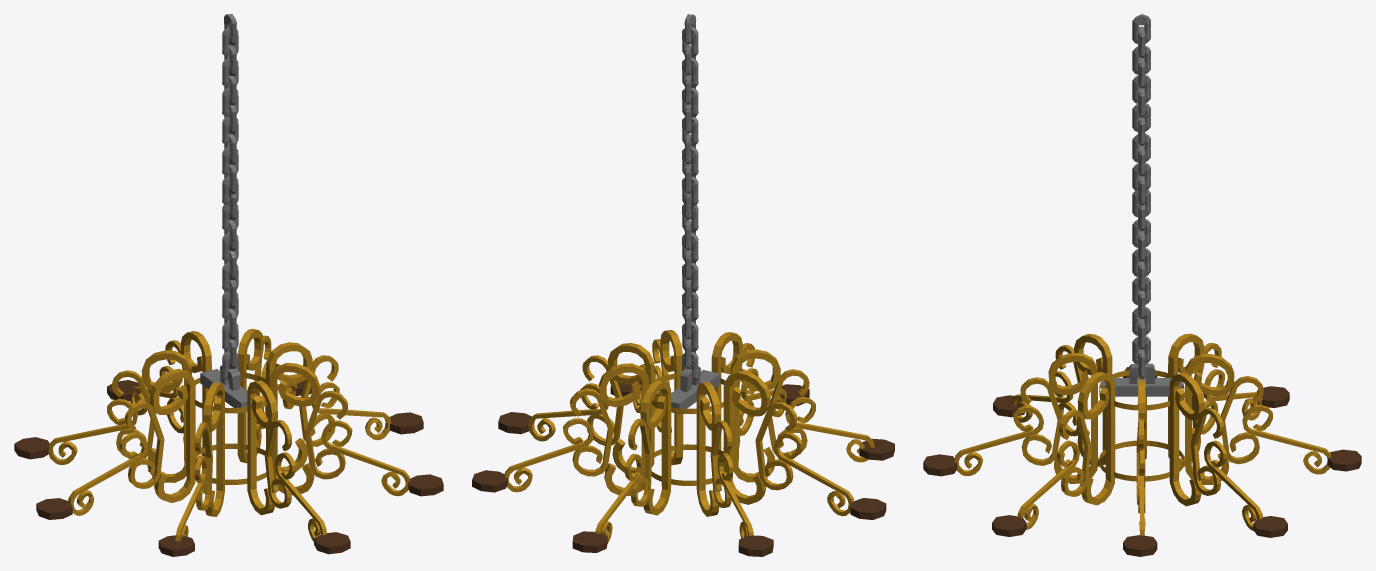
File: wizard chandelier.fbx
3 views of the same model, side by side, from view 1: azimuth 30°, elevation 25°; view 2: azimuth 150°, elevation 25°; view 3: azimuth 270°, elevation 25° (orthographic).
Parts seen in each view (by area): view 1: Cube.013, Cube.018, Cube.017, Cube.005, Cube.004, Cube.002, Cube.006, Cube.007, Cube.001, Cube, Cube.015, Cube.008 (+5 smaller); view 2: Cube.013, Cube.018, Cube.017, Cube.003, Cube.005, Cube.001, Cube.007, Cube.002, Cube, Cube.006, Cube.015, Cube.012 (+5 smaller); view 3: Cube.018, Cube.013, Cube.017, Cube.006, Cube.007, Cube.004, Cube.003, Cube.002, Cube.016, Cube.012, Cube.008, Cube.011 (+4 smaller).
Part boxes in pixels (x1,y1,x2,y2): Cube.013: (48, 362, 410, 541); Cube.018: (200, 14, 247, 413); Cube.017: (14, 380, 443, 556); Cube.005: (149, 369, 195, 502); Cube.004: (247, 380, 277, 515); Cube.002: (203, 382, 224, 516); Cube.006: (269, 362, 319, 495); Cube.007: (237, 328, 263, 463); Cube.001: (141, 350, 191, 482); Cube: (266, 342, 312, 472); Cube.015: (124, 401, 164, 488); Cube.008: (304, 390, 348, 479); Cube.013: (504, 365, 874, 543); Cube.018: (671, 14, 720, 414); Cube.017: (472, 381, 894, 556); Cube.003: (640, 380, 671, 515); Cube.005: (723, 370, 770, 504); Cube.001: (696, 381, 721, 516); Cube.007: (599, 363, 649, 495); Cube.002: (730, 349, 780, 482); Cube: (608, 343, 654, 475); Cube.006: (660, 330, 683, 465); Cube.015: (755, 402, 797, 490); Cube.012: (570, 388, 613, 476); Cube.018: (1101, 14, 1182, 396); Cube.013: (954, 369, 1331, 535); Cube.017: (923, 367, 1361, 556); Cube.006: (1077, 372, 1115, 505); Cube.007: (1169, 372, 1204, 506); Cube.004: (1048, 353, 1097, 483); Cube.003: (1185, 354, 1234, 484); Cube.002: (1074, 334, 1112, 466); Cube.016: (1020, 377, 1062, 465); Cube.012: (1191, 408, 1223, 495); Cube.008: (1059, 409, 1091, 496); Cube.011: (1220, 376, 1263, 464).
Bounding box in the file's own units: 1029 × 1216 × 1031.
